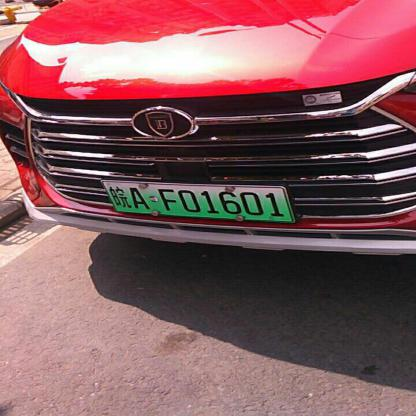lp: (100, 180, 294, 222)
